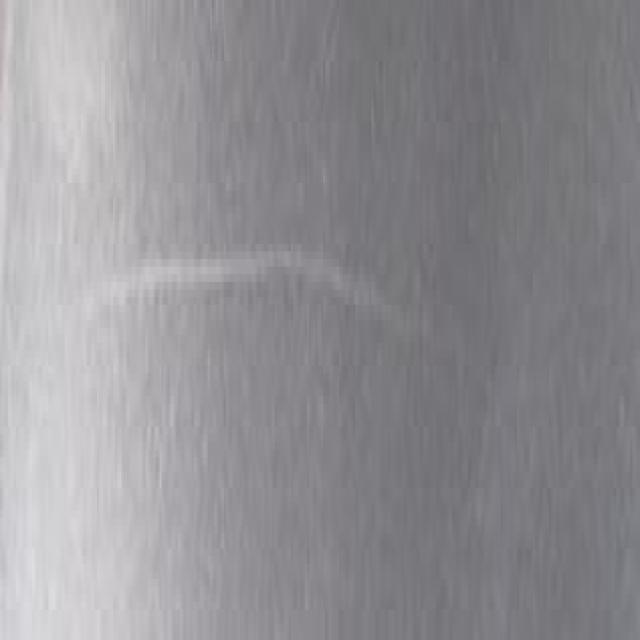scratch: (76, 225, 436, 392)
